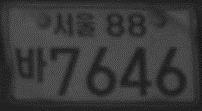4: (120, 47, 151, 97)
6: (154, 46, 187, 97), (84, 46, 116, 97)
7: (49, 46, 79, 96)
8: (105, 12, 125, 36), (127, 12, 146, 37)
바: (16, 46, 47, 84)
서울_H: (53, 11, 97, 38)
